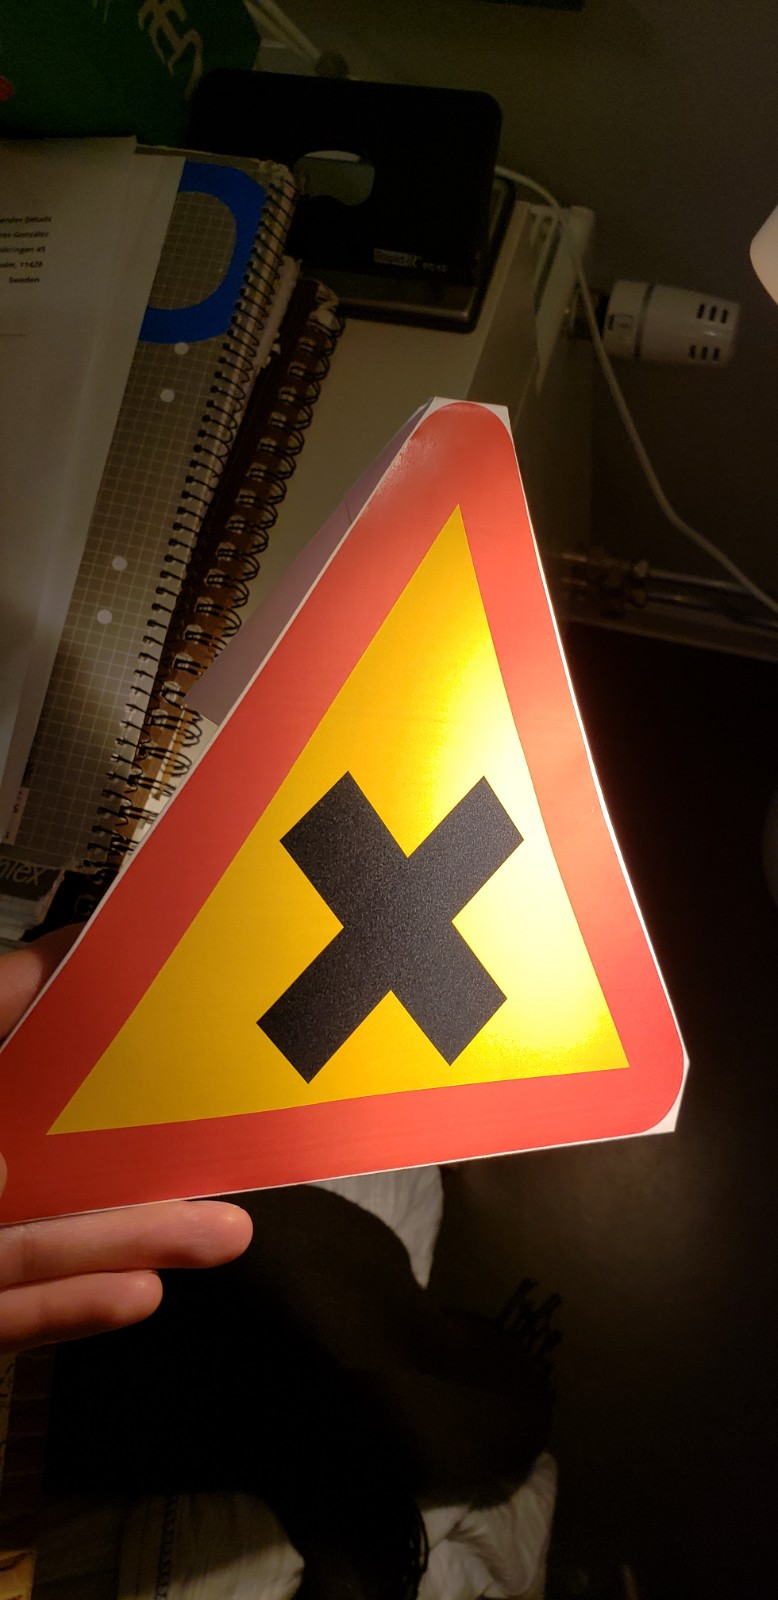junction: (9, 346, 735, 1331)
